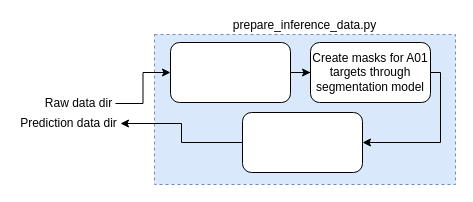
This 473x202 diagram has some shape labels left out. The centre of each missing label's shape, as x and y in pixels:
"Copy raw input data to other folder, restructure" goes at point (230, 72).
"Normalize inputs by magnification" goes at point (302, 142).
